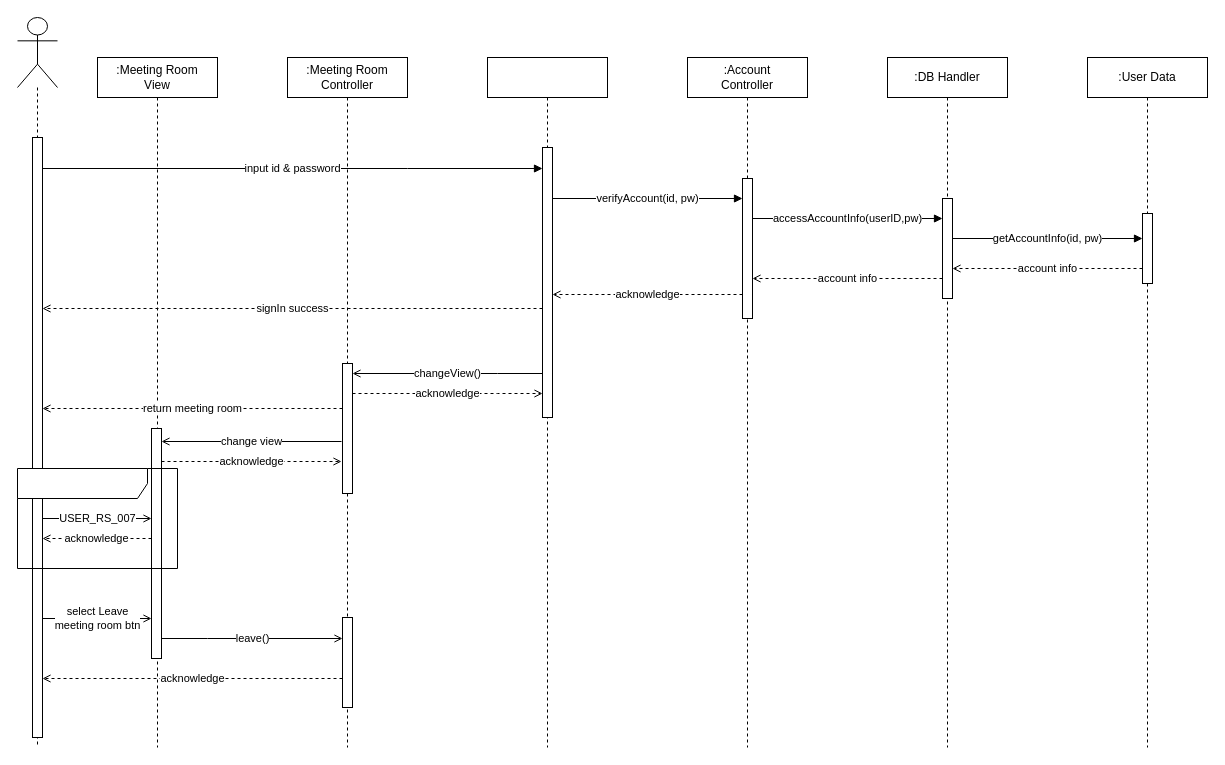
This 1225x765 diagram has some shape labels left out. The shapes that lost their labels are listed below. From the top down, each one's box as (x1, y1, x2, y2) in pixels, then its label:
(16, 16, 58, 748): User
(486, 56, 608, 748): :SignIn View
(16, 468, 178, 568): Use meeting room module (USER_RS_007)
